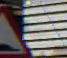Speed Breaker ahead: (0, 4, 32, 55)
